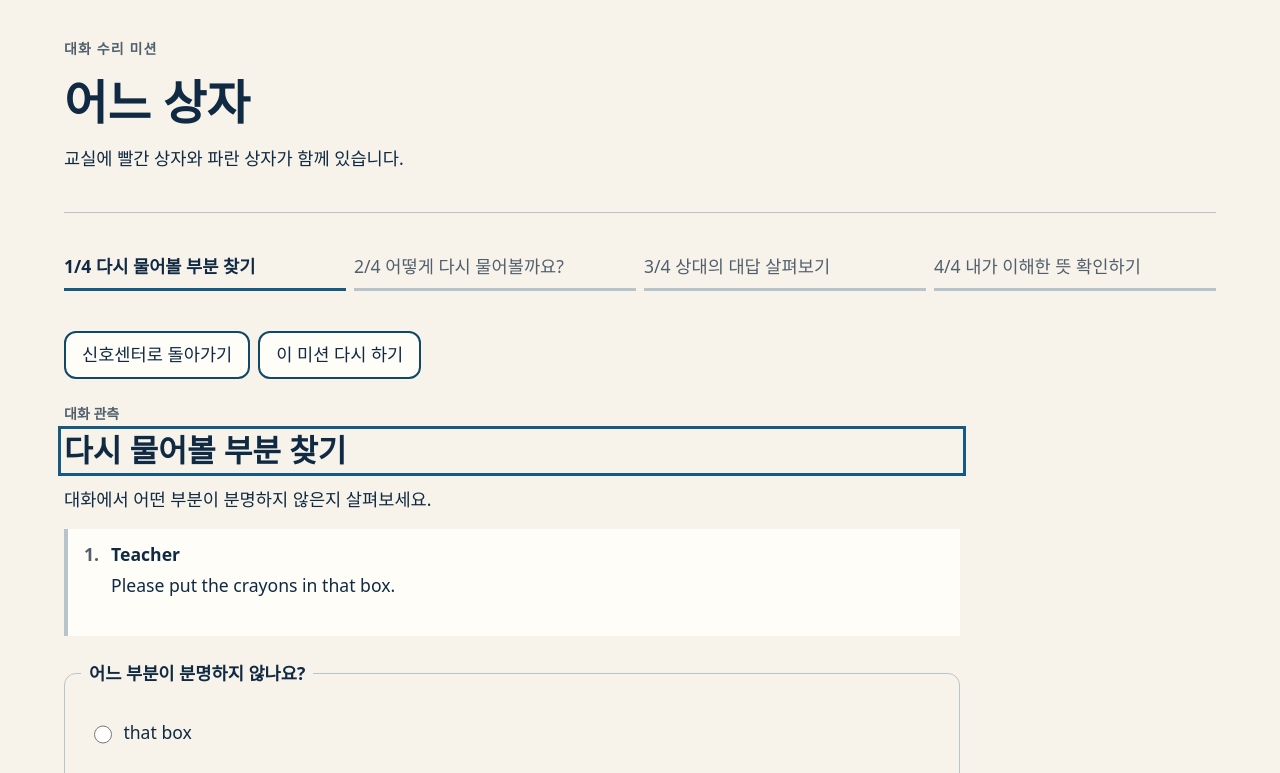
Scenario: DialogueObservation › moves to repair transmission after selecting the ambiguous slot
Click the radio button labelled "that box" at (103, 734), box [94, 725, 112, 744]
(page scrolled)
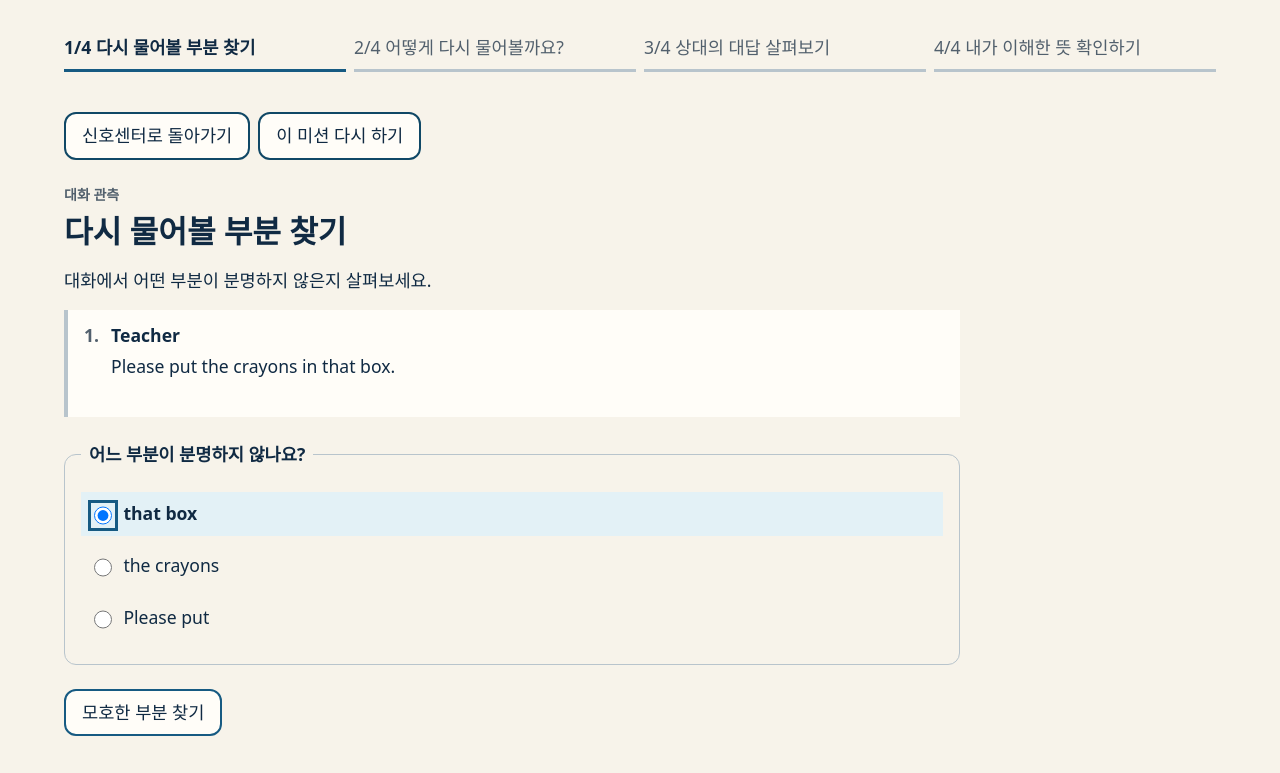
Click the button "모호한 부분 찾기" at (143, 713), box [64, 689, 222, 736]
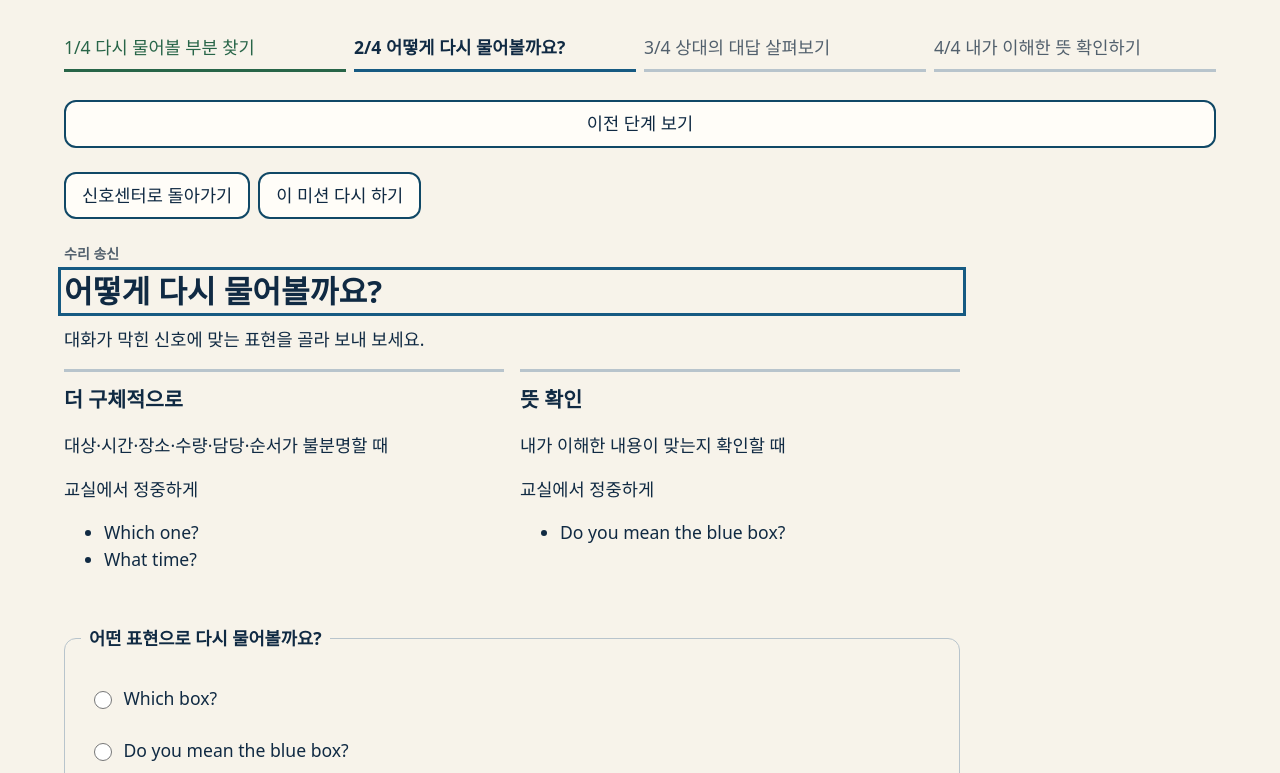
Now the heading "어떻게 다시 물어볼까요?" is shown, box [64, 270, 382, 312]
